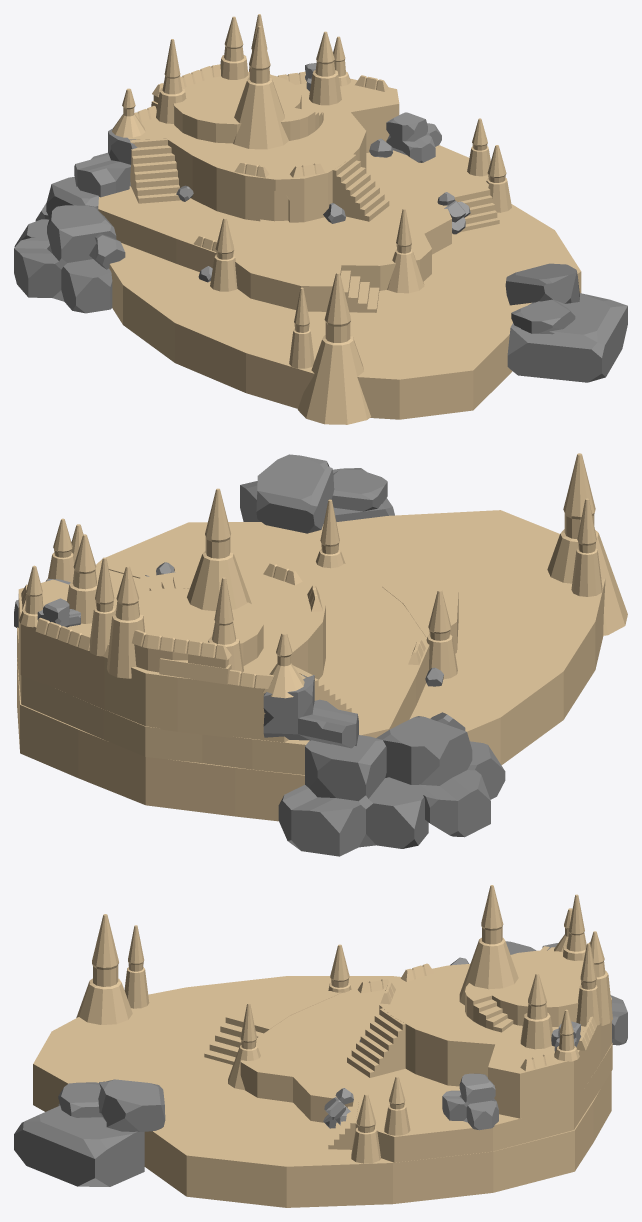
File: sandburg01.fbx
3 renders of one model, top to bottom at view 1: azimuth 30°, elevation 25°; view 2: azimuth 150°, elevation 25°; view 3: azimuth 270°, elevation 25°, orthographic. The views are drawn at different scales.
Visible parts, largest first — view 1: Cylinder, Cylinder.001, Cube.012, Cube.027, turm2.007, Cube.020, Cylinder.002, turm2.001, Cube.021, Cube.028, Cube.008, Cube.017 (+16 smaller); view 2: Cylinder, Cylinder.001, Cube.011, Cube.012, Cylinder.002, Cube.028, Cube.008, turm2.007, turm2.001, turm2.005, Cube.020, Cube.029 (+16 smaller); view 3: Cylinder, Cylinder.001, Cube.027, Cylinder.002, turm2.007, Cube.020, Cube.028, turm2.001, Cube.017, Cube.010, turm2, Cube.022 (+13 smaller).
Part boxes in pixels (<box>): Cylinder: <box>109,204,581,419</box>; Cylinder.001: <box>98,78,489,290</box>; Cube.012: <box>14,205,116,313</box>; Cube.027: <box>507,293,627,382</box>; turm2.007: <box>297,272,370,424</box>; Cube.020: <box>235,257,379,312</box>; Cylinder.002: <box>173,71,301,143</box>; turm2.001: <box>233,26,288,149</box>; Cube.021: <box>130,139,180,203</box>; Cube.028: <box>505,263,579,305</box>; Cube.008: <box>74,128,137,197</box>; Cube.017: <box>332,154,389,221</box>; Cylinder: <box>17,510,605,821</box>; Cylinder.001: <box>17,555,429,774</box>; Cube.011: <box>278,735,428,856</box>; Cube.012: <box>376,716,505,837</box>; Cylinder.002: <box>113,588,263,672</box>; Cube.028: <box>256,454,334,533</box>; Cube.008: <box>263,674,358,748</box>; turm2.007: <box>547,453,627,635</box>; turm2.001: <box>187,488,251,611</box>; turm2.005: <box>107,566,144,678</box>; Cube.020: <box>382,574,458,653</box>; Cube.029: <box>331,470,387,511</box>; Cylinder: <box>33,976,611,1207</box>; Cylinder.001: <box>240,947,612,1162</box>; Cube.027: <box>14,1105,144,1186</box>; Cylinder.002: <box>488,950,583,1026</box>; turm2.007: <box>76,914,132,1024</box>; Cube.020: <box>204,991,341,1064</box>; Cube.028: <box>98,1079,165,1131</box>; turm2.001: <box>459,885,518,1005</box>; Cube.017: <box>347,1008,405,1077</box>; Cube.010: <box>442,1073,498,1130</box>; turm2: <box>520,973,552,1049</box>; Cube.022: <box>465,983,513,1032</box>.
Bounding box in the file's own units: 24029 × 11832 × 29354.
